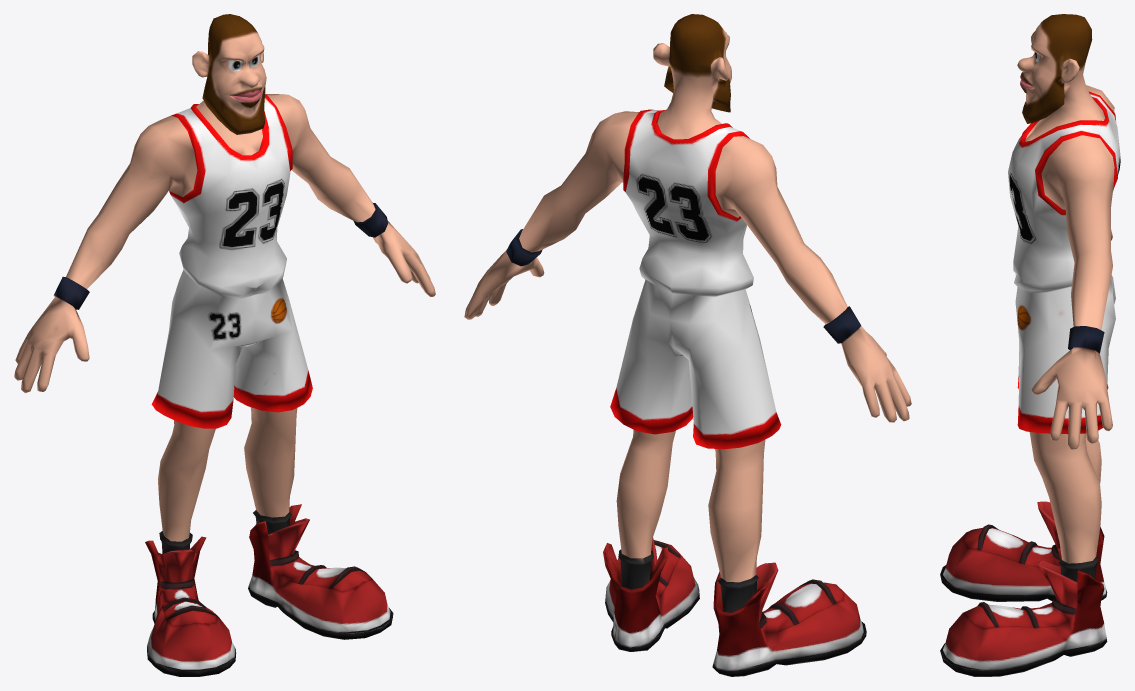
Rendered from Player 23 red.fbx.
3 views of the same model, side by side, from view 1: azimuth 30°, elevation 25°; view 2: azimuth 150°, elevation 25°; view 3: azimuth 270°, elevation 25° (orthographic). The views are drawn at different scales.
Visible parts, largest first — view 1: red 23; view 2: red 23; view 3: red 23.
Part boxes in pixels (bbox=[...]): red 23: bbox=[14, 14, 435, 676]; red 23: bbox=[464, 14, 911, 676]; red 23: bbox=[940, 14, 1120, 676].
Size of the model in its own units: 136 by 188 by 50.96.
Materials: 1 (1 with a texture image).
